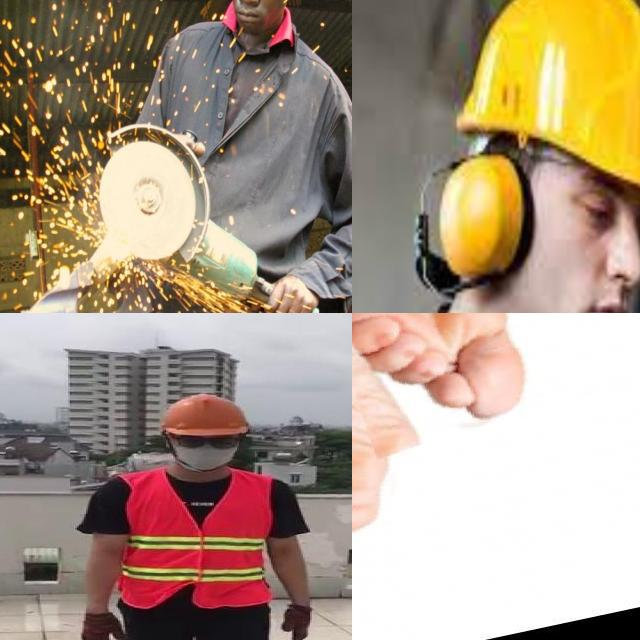Barefoots: (352, 313, 534, 424)
Ear-protection: (416, 0, 640, 313)
head_helmet: (158, 392, 252, 438)
person: (74, 390, 322, 640)
vest: (120, 473, 270, 611)
